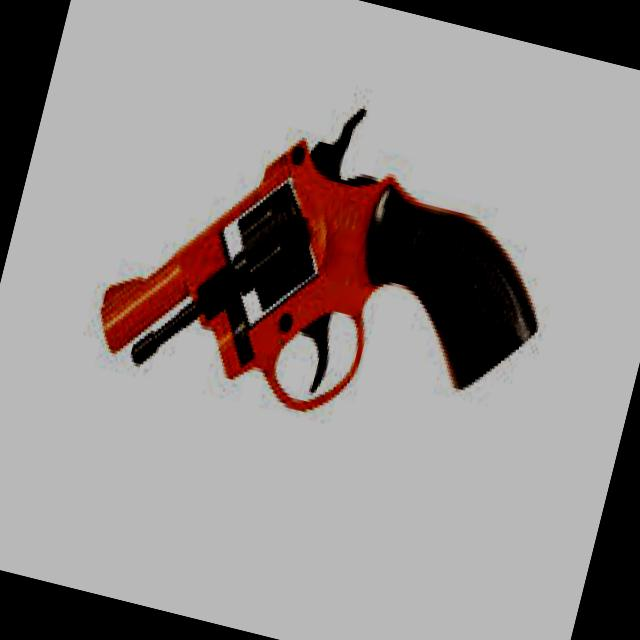revolver: (5, 0, 640, 578)
